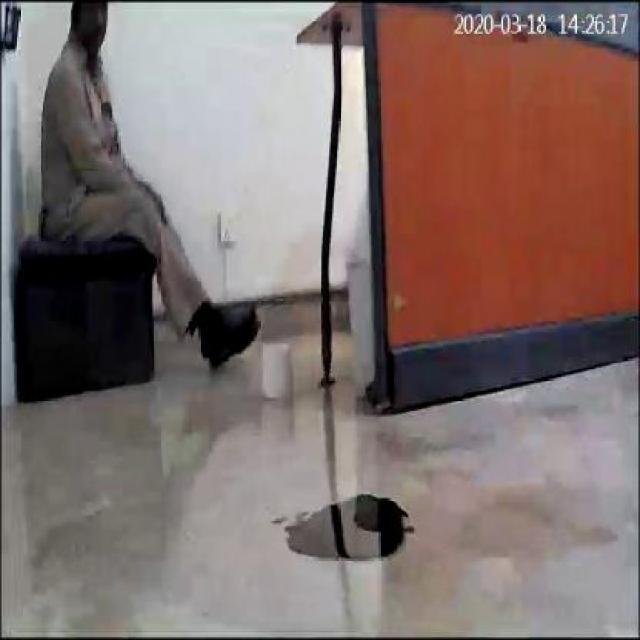spill: (278, 488, 404, 566)
